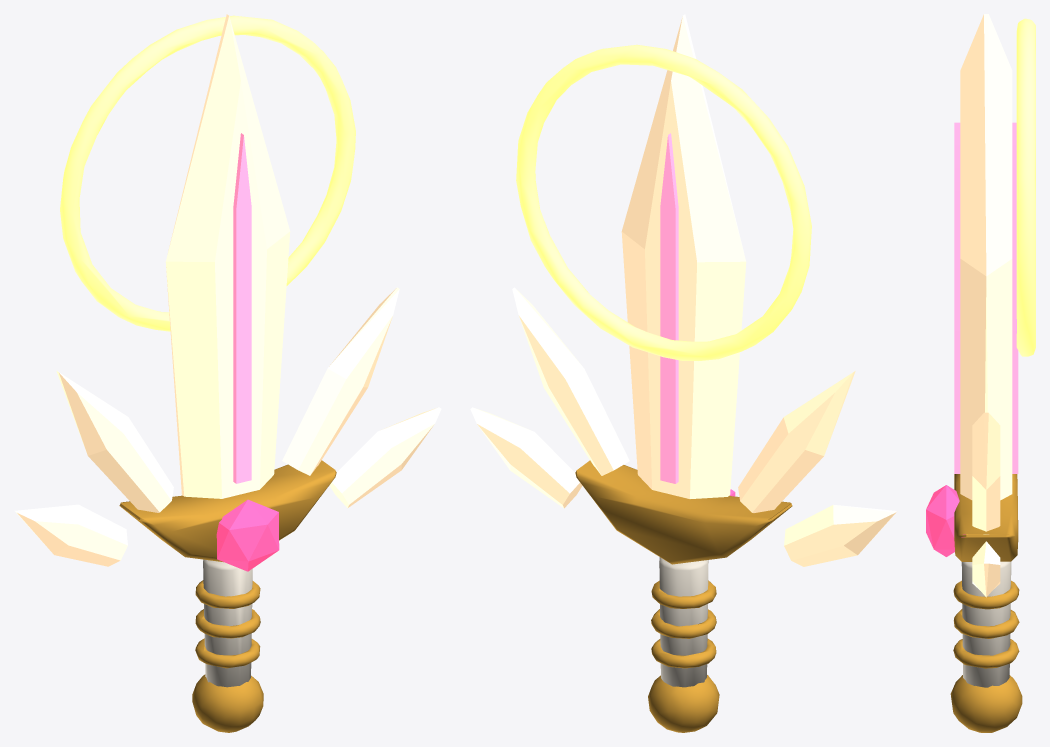
File: weapon-firstLight.glb
The picture shows the model from 3 angles, left to right: view 1: azimuth 30°, elevation 25°; view 2: azimuth 150°, elevation 25°; view 3: azimuth 270°, elevation 25°; orthographic projection.
Visible parts, largest first — view 1: blade; view 2: blade; view 3: blade.
Boxes of the visible parts, x1,y1,x2,y2 form: blade: [14, 14, 441, 732]; blade: [470, 14, 897, 732]; blade: [926, 14, 1035, 732].
Bounding box in the file's own units: 1.23 × 1.97 × 0.2751.
